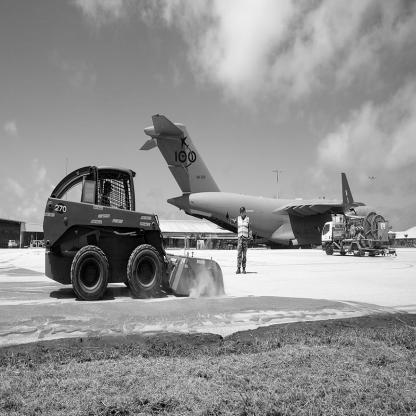C17: (140, 114, 378, 250)
